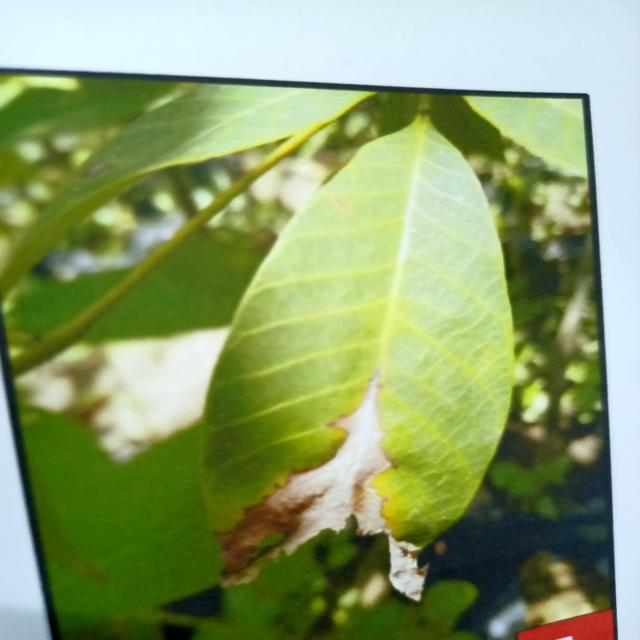Leaf-Blight: (214, 374, 430, 602)
